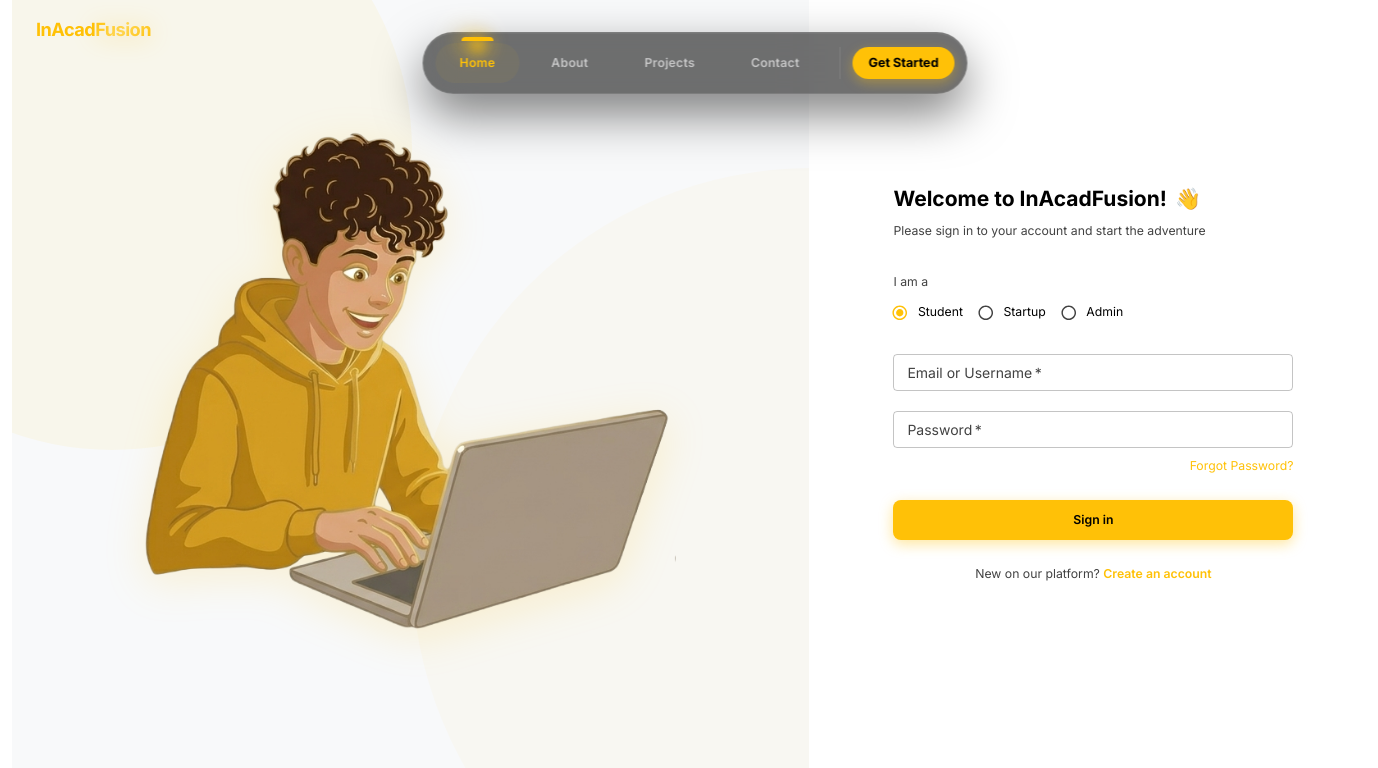
Scenario: Test Suites #1 & #2: Registration & Login › TCLogin-02: Invalid password
Type "student@test.com" into the field named "email".
click(1093, 373); type("student@test.com")  # box [893,354,1293,391]
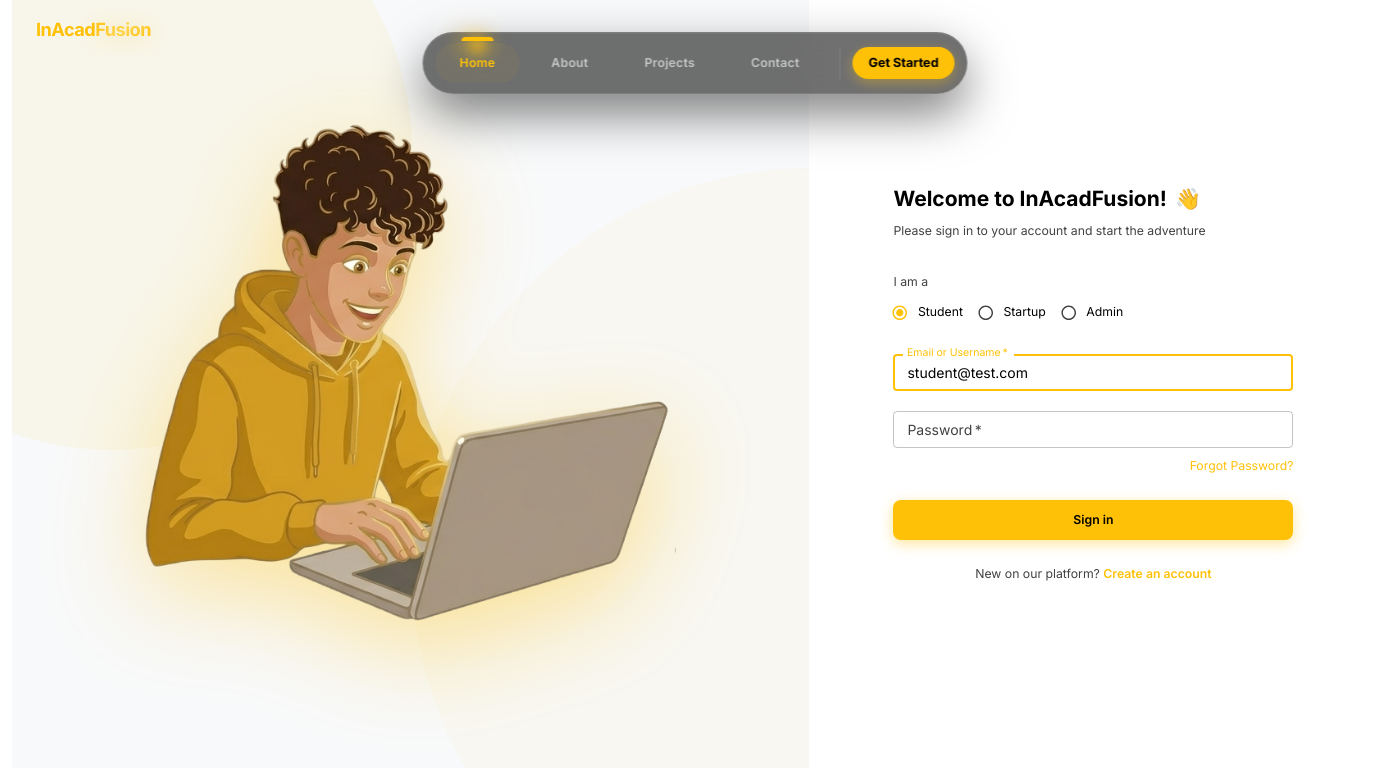
Type "wrong" into the password field named "password".
click(1093, 430); type("wrong")  # box [893,411,1293,448]
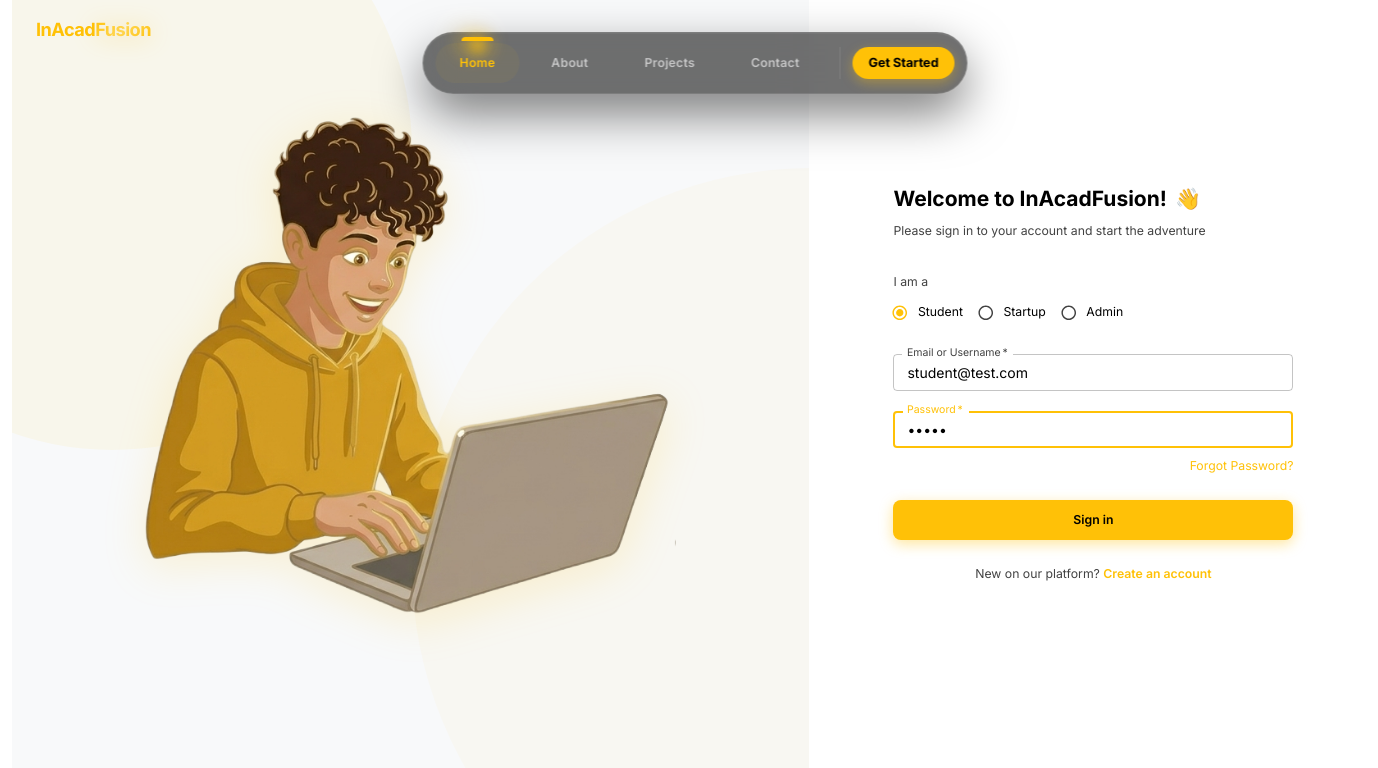
Click the submit button.
click(1093, 521)  # box [893,500,1293,541]
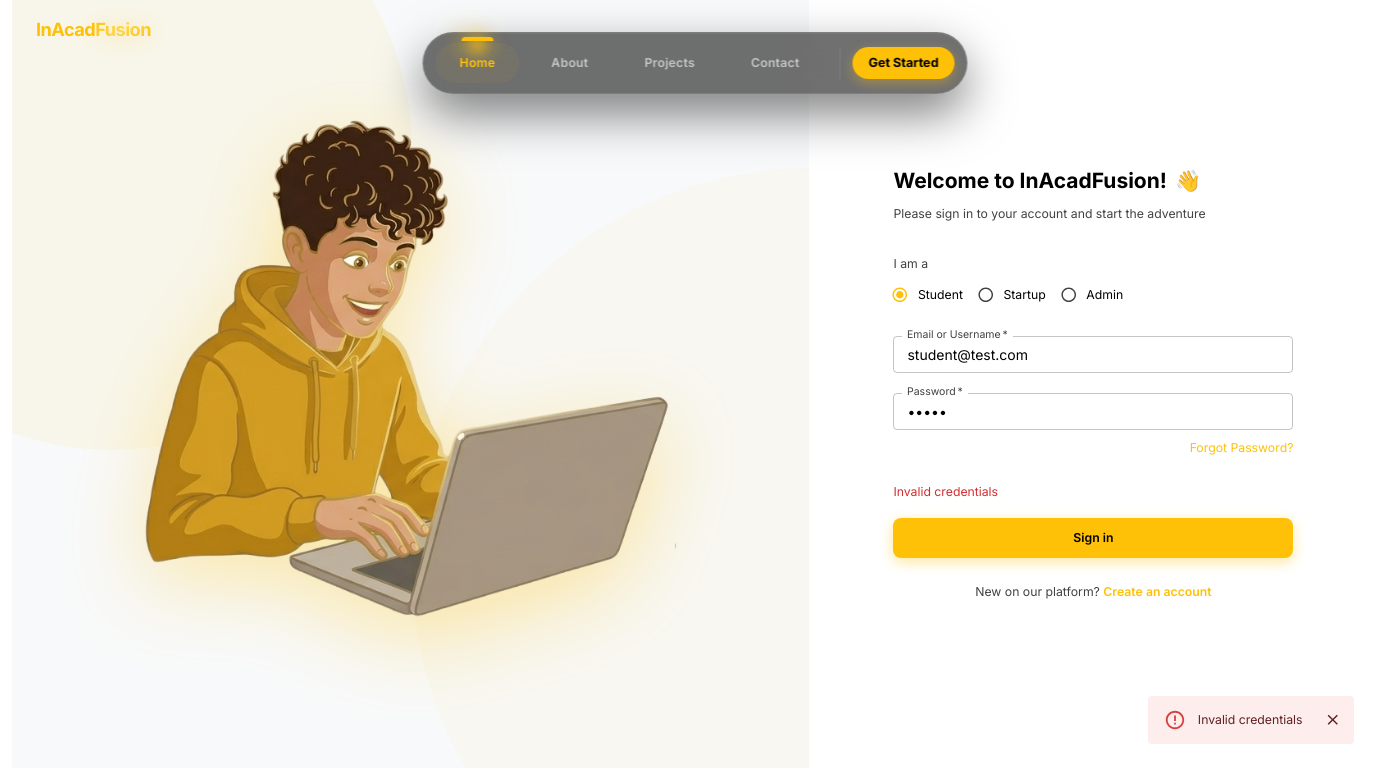
Now the text "Invalid credentials" below "Forgot Password?" is shown, box [893,484,998,499]
